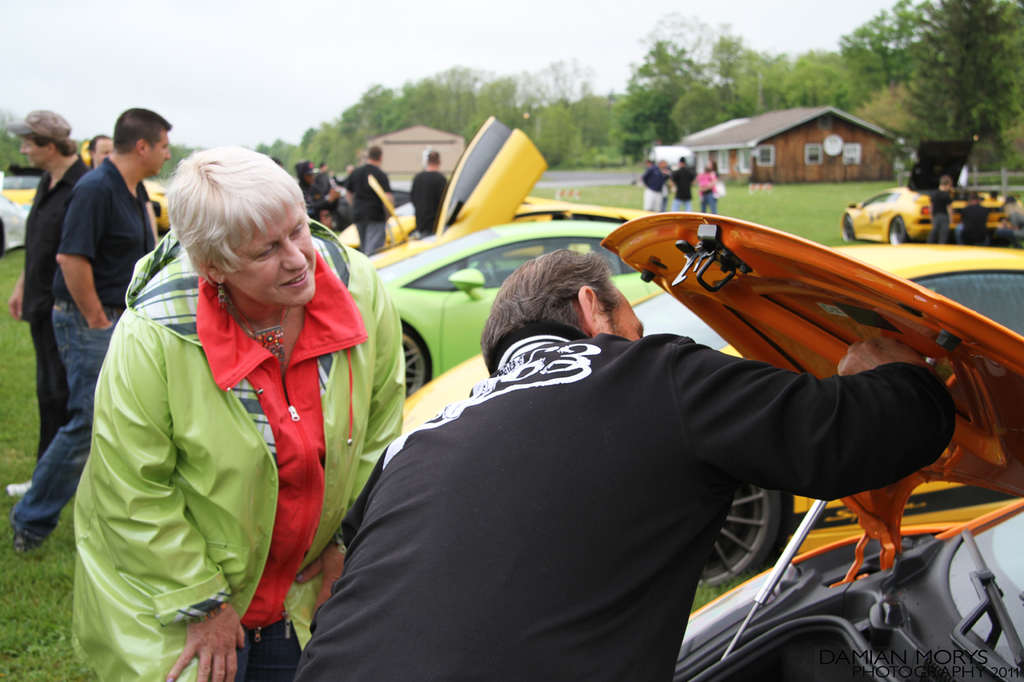Car: (336, 115, 1023, 681), (835, 185, 1011, 243), (0, 167, 42, 211), (147, 187, 172, 232)
